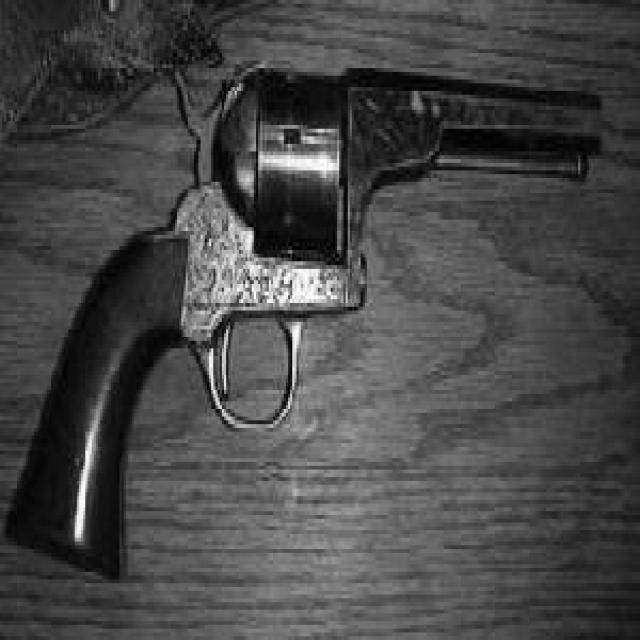gun: (9, 51, 608, 567)
